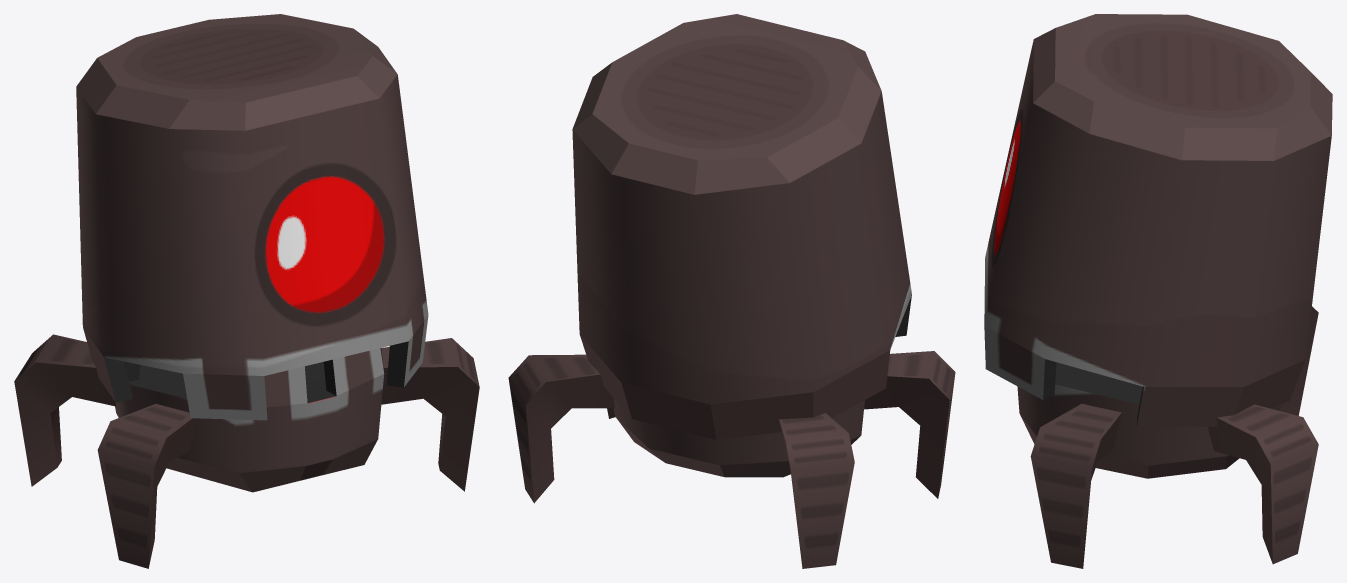
File: Enemy1.FBX
The picture shows the model from 3 angles, left to right: view 1: azimuth 30°, elevation 25°; view 2: azimuth 150°, elevation 25°; view 3: azimuth 270°, elevation 25°; orthographic projection. The views are drawn at different scales.
Parts seen in each view (by area): view 1: EnemyHead, EnemyBase, Leg003, Leg004, Leg002; view 2: EnemyHead, Leg004, Leg001, EnemyBase, Leg003; view 3: EnemyHead, EnemyBase, Leg001, Leg002, Leg004.
Part boxes in pixels (left/top/right/bottom): EnemyHead: left=76, top=14, right=428, bottom=420; EnemyBase: left=115, top=348, right=384, bottom=492; Leg003: left=97, top=403, right=196, bottom=568; Leg004: left=14, top=334, right=116, bottom=486; Leg002: left=381, top=338, right=479, bottom=491; EnemyHead: left=572, top=14, right=911, bottom=439; Leg004: left=779, top=413, right=854, bottom=568; Leg001: left=508, top=354, right=614, bottom=503; EnemyBase: left=613, top=398, right=864, bottom=477; Leg003: left=864, top=351, right=955, bottom=498; EnemyHead: left=984, top=14, right=1332, bottom=426; EnemyBase: left=1017, top=362, right=1281, bottom=478; Leg001: left=1208, top=404, right=1318, bottom=564; Leg002: left=1030, top=403, right=1121, bottom=568; Leg004: left=1280, top=306, right=1318, bottom=415.
Size of the model in its own units: 87.11 by 97.45 by 71.33.
Materials: 1 (1 with a texture image).
